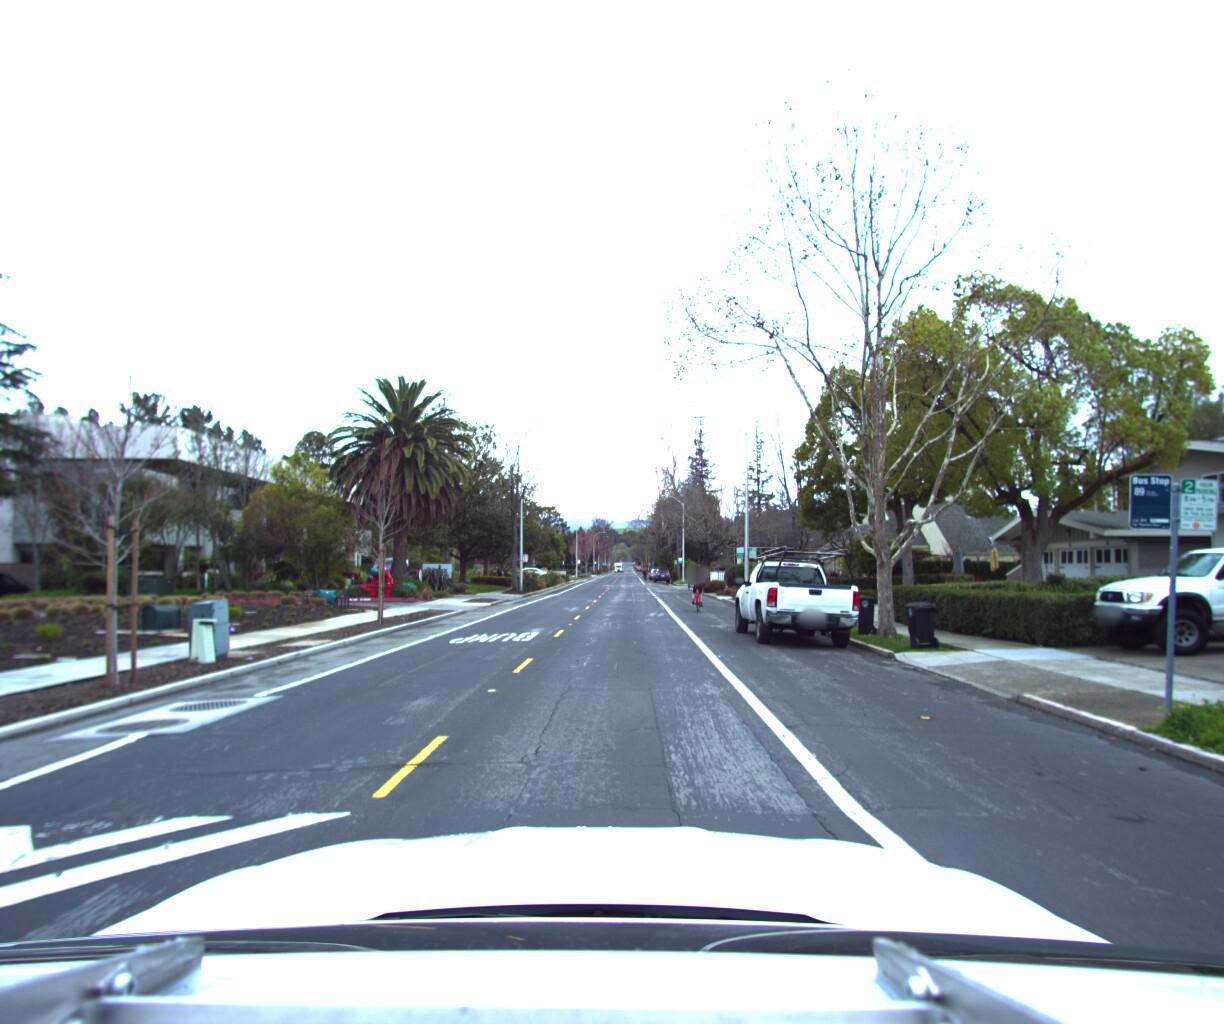bicycle: (686, 571, 712, 617)
car: (1065, 546, 1224, 662), (726, 552, 872, 656)
